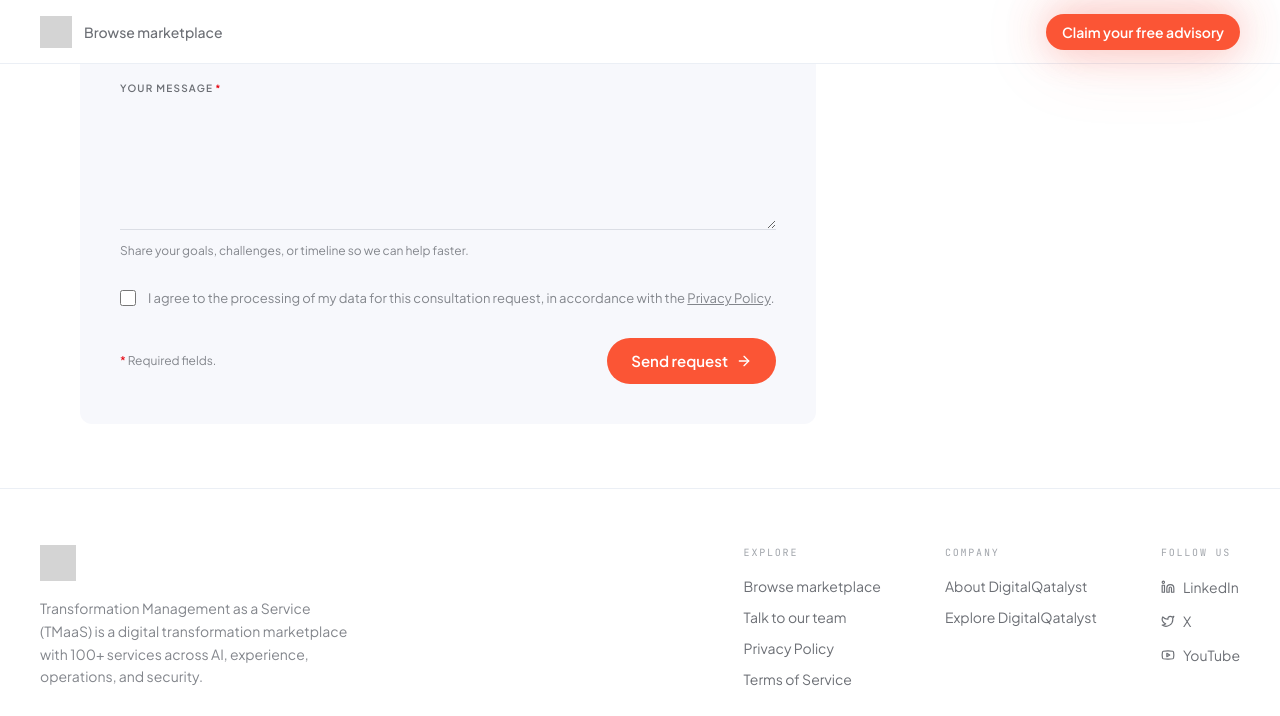
it: Contact integration › shows validation errors when required fields are missing
This screenshot has width=1280, height=716.
(page scrolled)
What coordinates should you click on to do the following:
click the button "Send request"
I would click on:
 (692, 361)
Its box is [607,338,776,384].
(page scrolled)
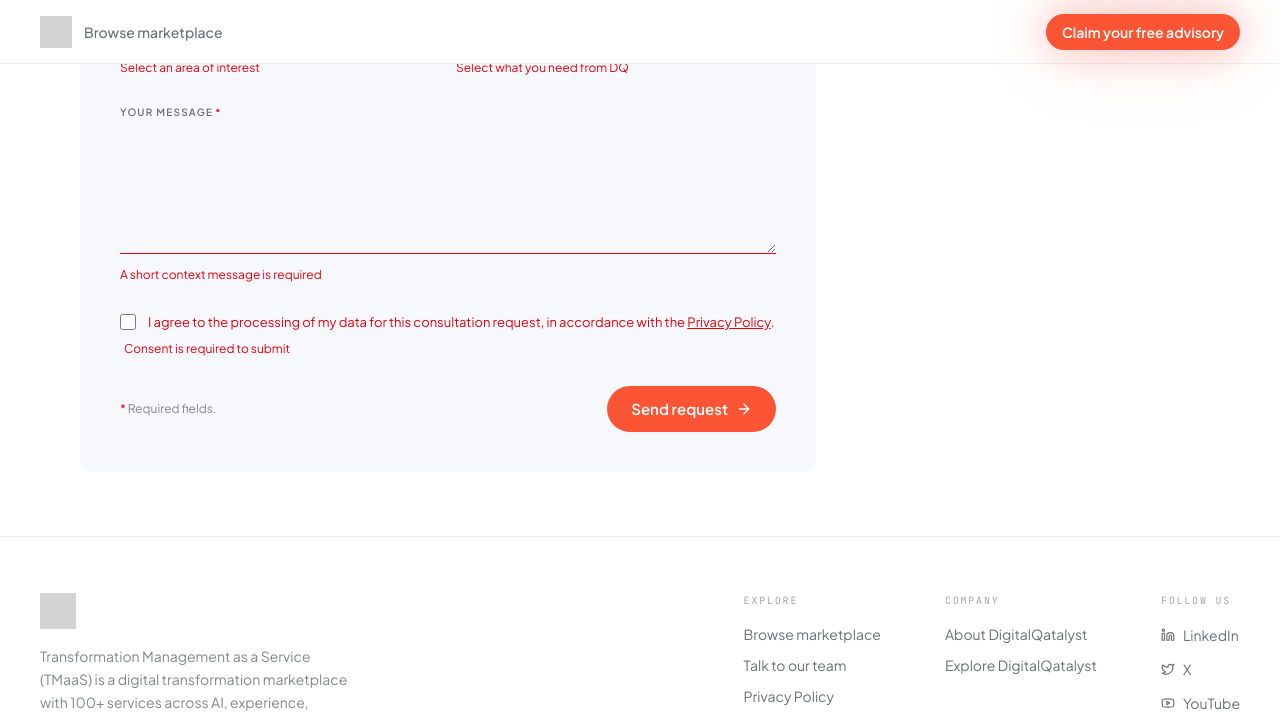
Now the text "Select an area of interest" is shown, box [120,60,260,75]
Now the text "Select what you need from DQ" is shown, box [456,60,629,75]
Now the text "A short context message is required" is shown, box [120,267,322,282]
